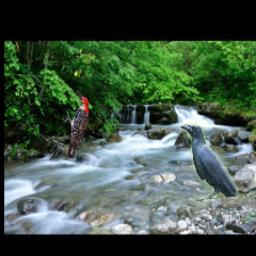Crow: (180, 124, 243, 212)
Woodpecker: (63, 90, 89, 158)
